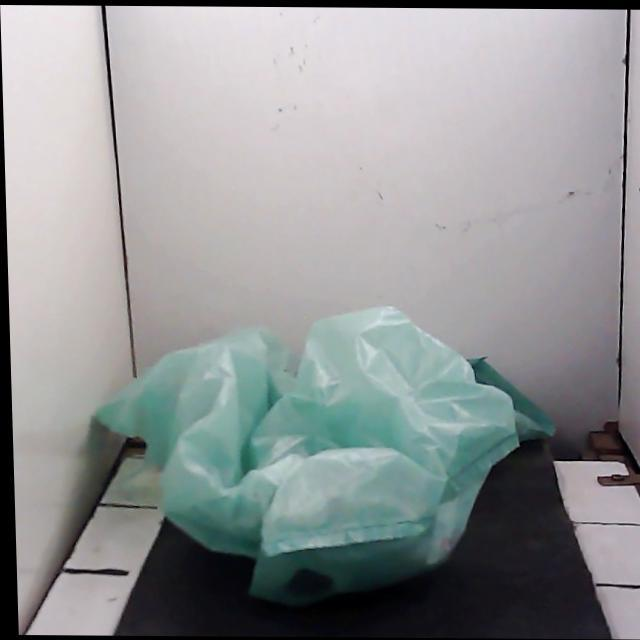plastico: (96, 307, 519, 605)
